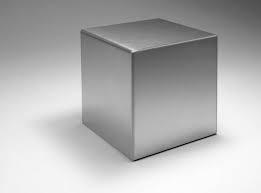cubos: (75, 14, 229, 169)
